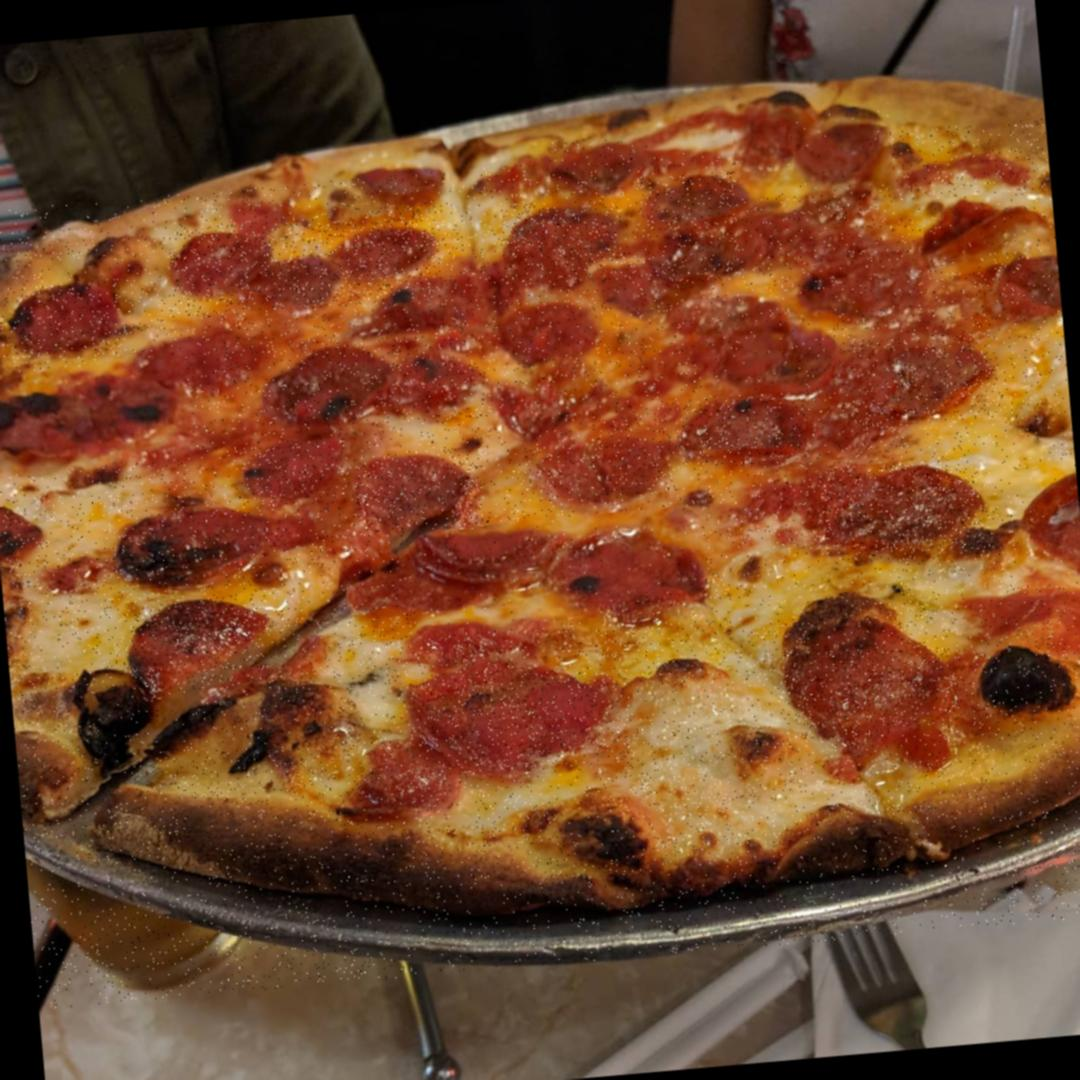Pepperoni: (408, 506, 709, 638), (160, 206, 446, 321), (406, 649, 636, 781), (781, 608, 967, 750), (259, 323, 486, 436), (0, 357, 194, 475), (114, 494, 320, 590), (820, 456, 986, 563), (122, 591, 282, 702), (690, 288, 838, 396), (846, 330, 1002, 432), (731, 105, 894, 197), (350, 446, 490, 538), (639, 171, 745, 290), (532, 429, 678, 507), (675, 391, 812, 471), (500, 202, 628, 287), (922, 189, 1057, 264), (7, 278, 129, 356), (1008, 466, 1080, 586), (497, 294, 600, 370), (548, 134, 655, 204), (242, 432, 352, 499), (0, 486, 55, 570)
Pizza: (0, 118, 1080, 1009)
